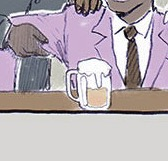beer: (63, 55, 115, 112)
can: (64, 56, 116, 115)
